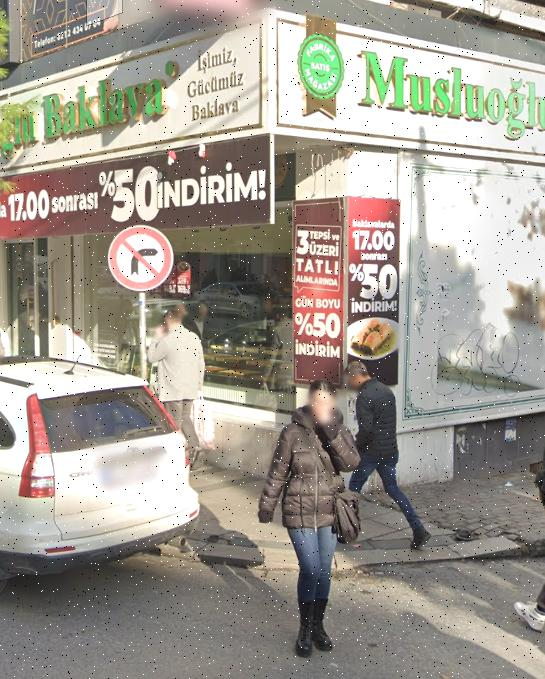rightturnsareforbidden: (112, 225, 175, 293)
